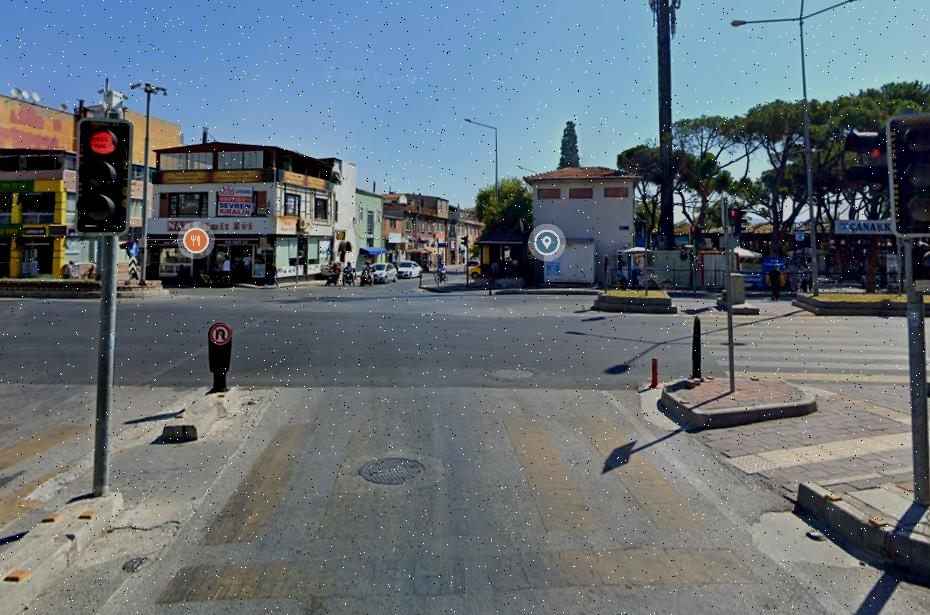redlight: (75, 114, 127, 236)
